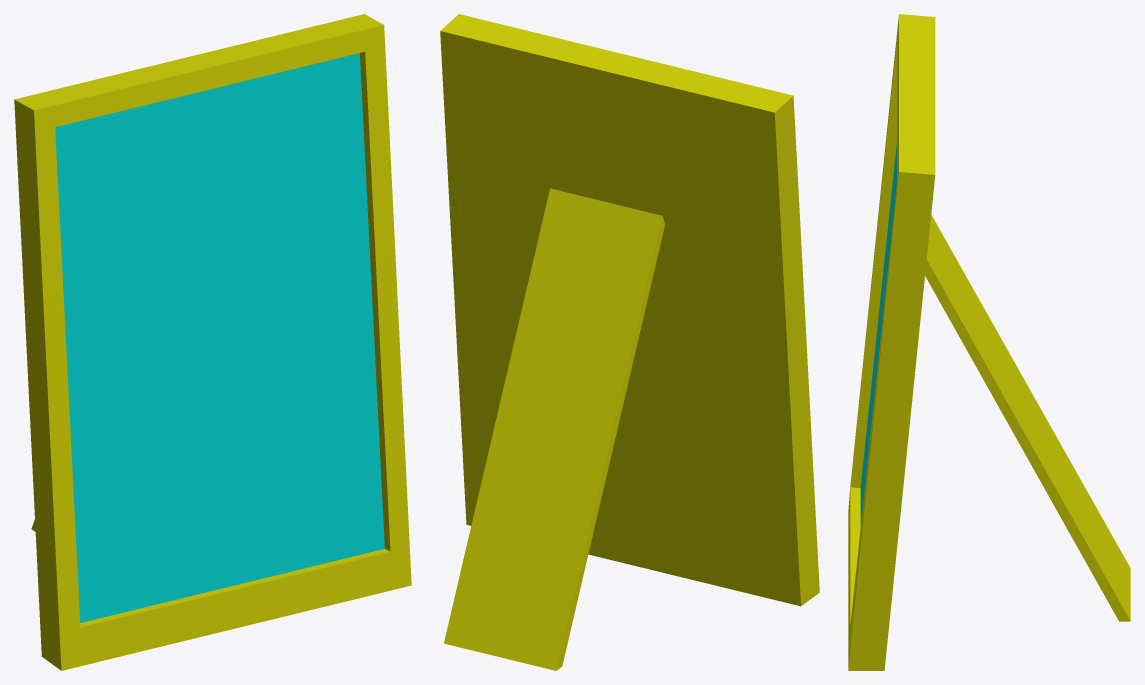
Rendered from Frame.fbx.
The picture shows the model from 3 angles, left to right: view 1: azimuth 30°, elevation 25°; view 2: azimuth 150°, elevation 25°; view 3: azimuth 270°, elevation 25°; orthographic projection. The views are drawn at different scales.
Parts seen in each view (by area): view 1: Frame; view 2: Frame; view 3: Frame.
Part boxes in pixels (x1,y1,x2,y2): Frame: [14, 14, 411, 670]; Frame: [440, 14, 819, 670]; Frame: [848, 14, 1130, 670].
Size of the model in its own units: 0.6971 by 1.03 by 0.5273.
